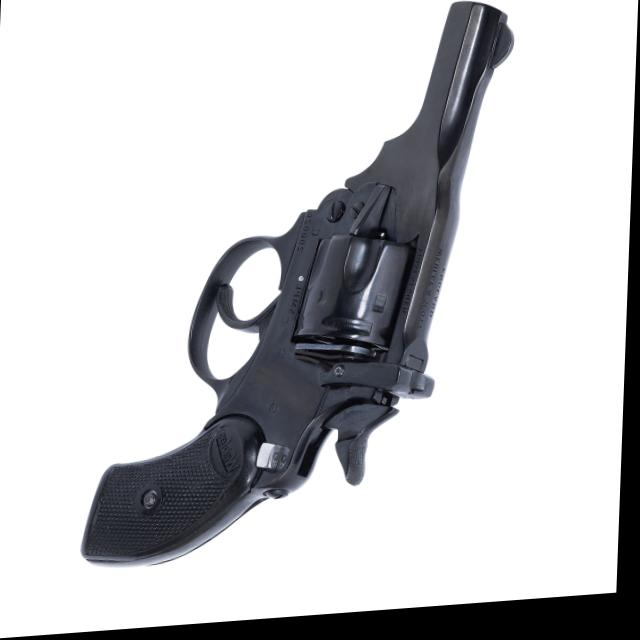handgun: (82, 9, 518, 571)
